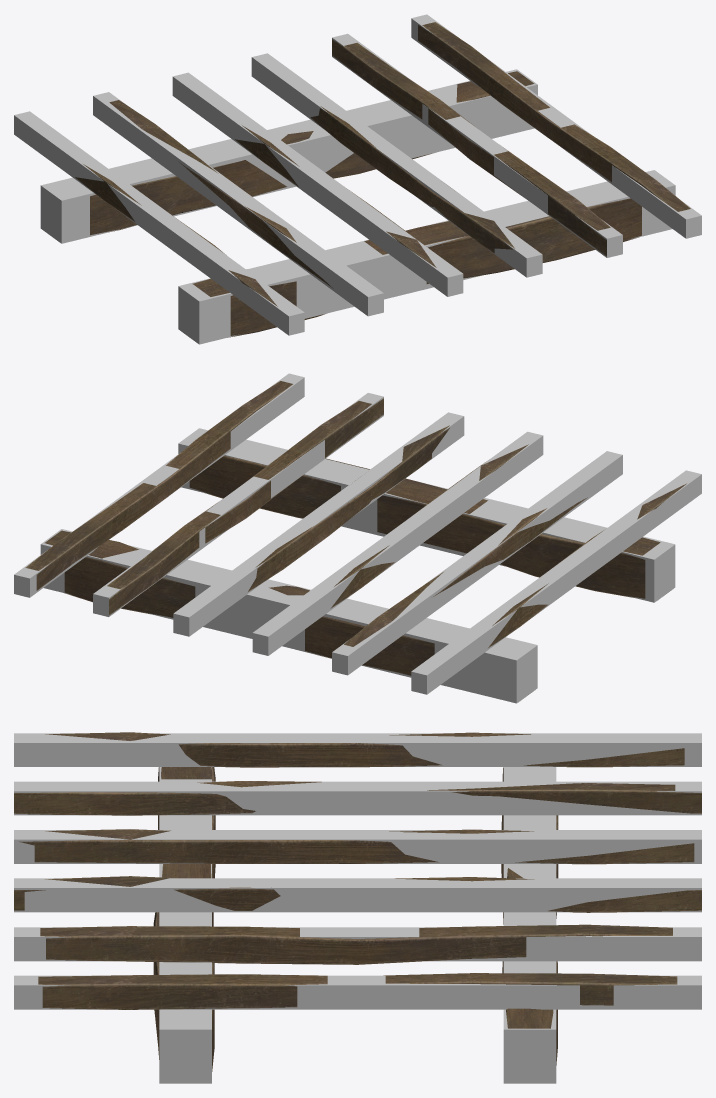
The model's file is SM_WoodenBeam_01a.fbx.
3 views of the same model, one above another, from view 1: azimuth 30°, elevation 25°; view 2: azimuth 150°, elevation 25°; view 3: azimuth 270°, elevation 25° (orthographic). The views are drawn at different scales.
Visible parts, largest first — view 1: SM_WoodenBeam_01a_ConvexHulls, SM_WoodenBeam_01a; view 2: SM_WoodenBeam_01a_ConvexHulls, SM_WoodenBeam_01a; view 3: SM_WoodenBeam_01a_ConvexHulls, SM_WoodenBeam_01a.
Boxes of the visible parts, x1,y1,x2,y2 form: SM_WoodenBeam_01a_ConvexHulls: (14,14,701,344); SM_WoodenBeam_01a: (75,22,690,337); SM_WoodenBeam_01a_ConvexHulls: (14,373,701,703); SM_WoodenBeam_01a: (25,381,686,675); SM_WoodenBeam_01a_ConvexHulls: (14,733,701,1083); SM_WoodenBeam_01a: (14,732,701,1071).
Size of the model in its own units: 300 by 300 by 41.02.
